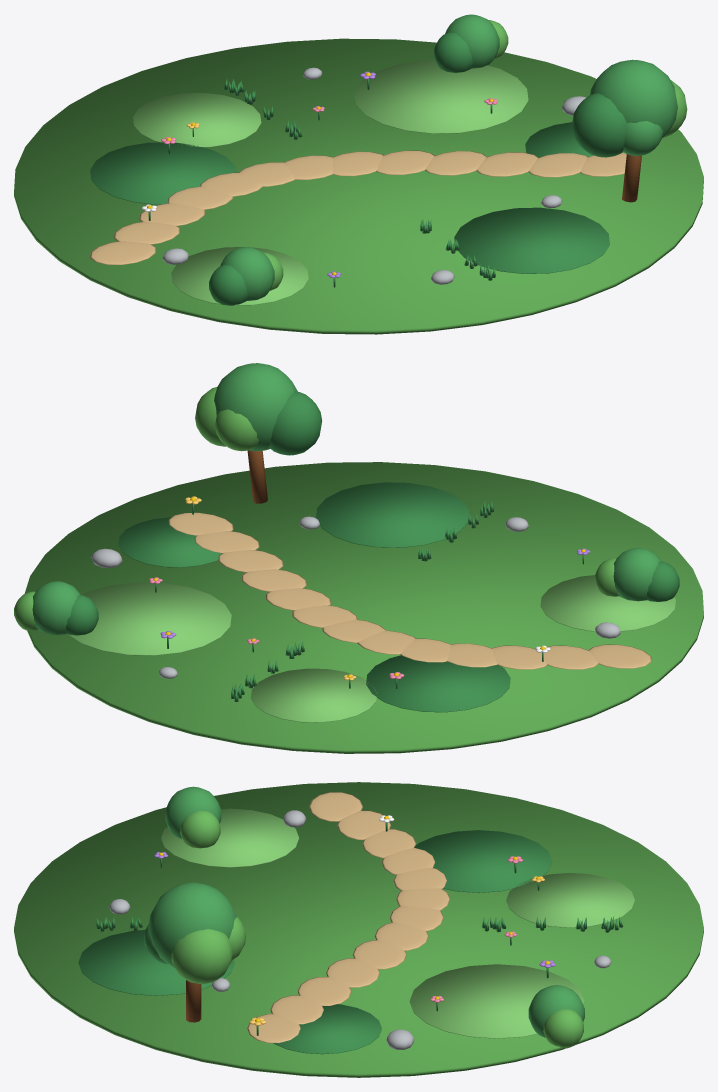
The model's file is garden.glb.
3 views of the same model, one above another, from view 1: azimuth 30°, elevation 25°; view 2: azimuth 150°, elevation 25°; view 3: azimuth 270°, elevation 25° (orthographic).
Parts seen in each view (by area): view 1: Garden; view 2: Garden; view 3: Garden.
Boxes of the visible parts, bbox=[...] form: Garden: bbox=[14, 14, 703, 334]; Garden: bbox=[14, 363, 703, 753]; Garden: bbox=[14, 782, 703, 1077].
Size of the model in its own units: 15 by 3.43 by 15.
